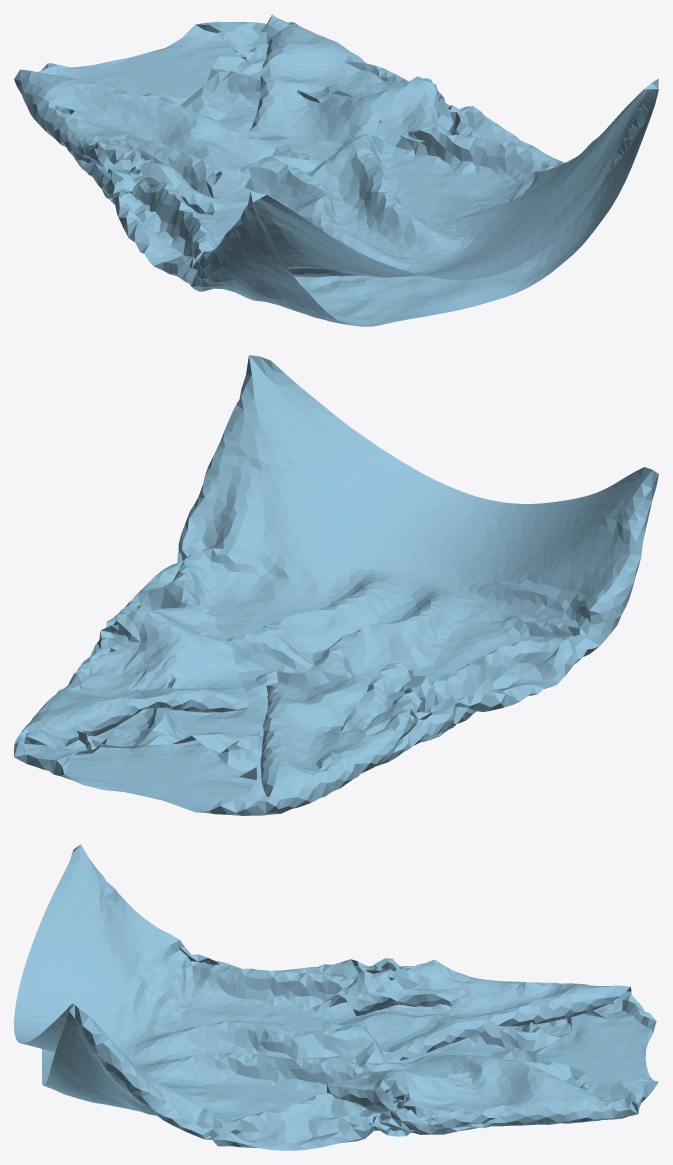
The model's file is frame_03.glb.
3 views of the same model, one above another, from view 1: azimuth 30°, elevation 25°; view 2: azimuth 150°, elevation 25°; view 3: azimuth 270°, elevation 25° (orthographic). The views are drawn at different scales.
Visible parts, largest first — view 1: frame_03.obj; view 2: frame_03.obj; view 3: frame_03.obj.
Part boxes in pixels (left/top/right/bottom): frame_03.obj: left=14, top=14, right=658, bottom=326; frame_03.obj: left=14, top=355, right=658, bottom=815; frame_03.obj: left=14, top=844, right=658, bottom=1150.
Bounding box in the file's own units: 1.17 × 0.4378 × 1.72.
